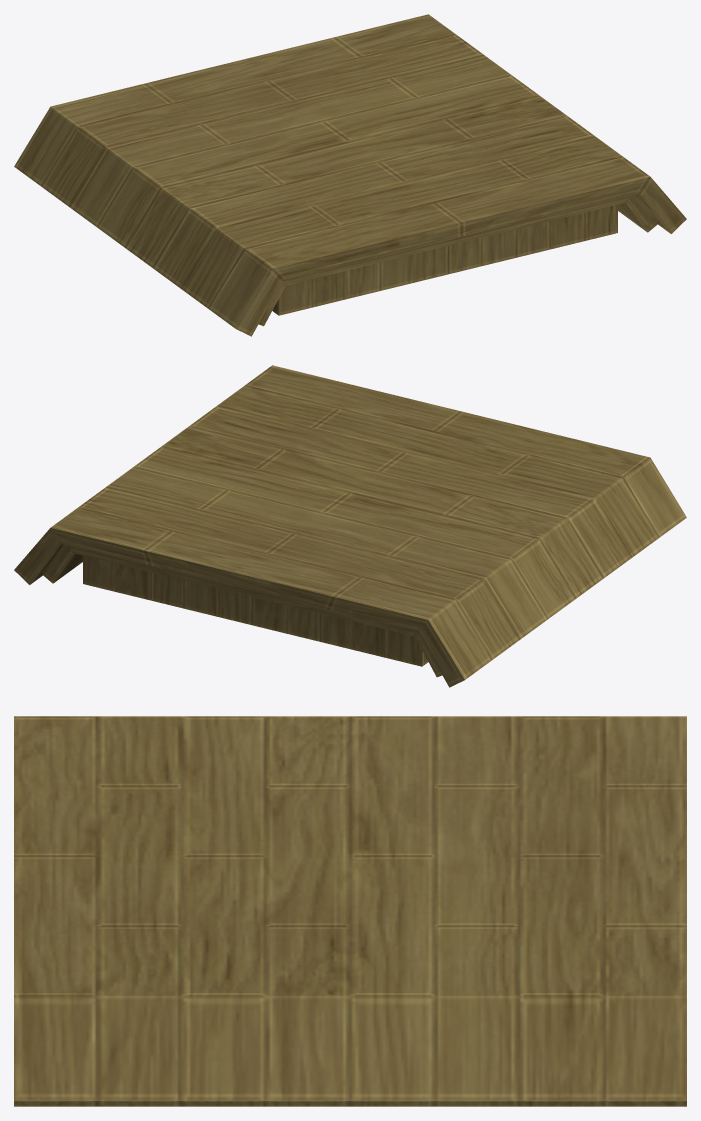
The model's file is sb_obj_outdoor028_house03_roof_b.fbx.
The picture shows the model from 3 angles, top to bottom: view 1: azimuth 30°, elevation 25°; view 2: azimuth 150°, elevation 25°; view 3: azimuth 270°, elevation 25°; orthographic projection. The views are drawn at different scales.
Parts seen in each view (by area): view 1: sb_obj_outdoor028_house03_roof_b; view 2: sb_obj_outdoor028_house03_roof_b; view 3: sb_obj_outdoor028_house03_roof_b.
Boxes of the visible parts, left/top/right/bottom form: sb_obj_outdoor028_house03_roof_b: left=14, top=14, right=686, bottom=336; sb_obj_outdoor028_house03_roof_b: left=14, top=365, right=686, bottom=687; sb_obj_outdoor028_house03_roof_b: left=14, top=716, right=686, bottom=1106.
Bounding box in the file's own units: 3.99 × 0.5292 × 3.4.
